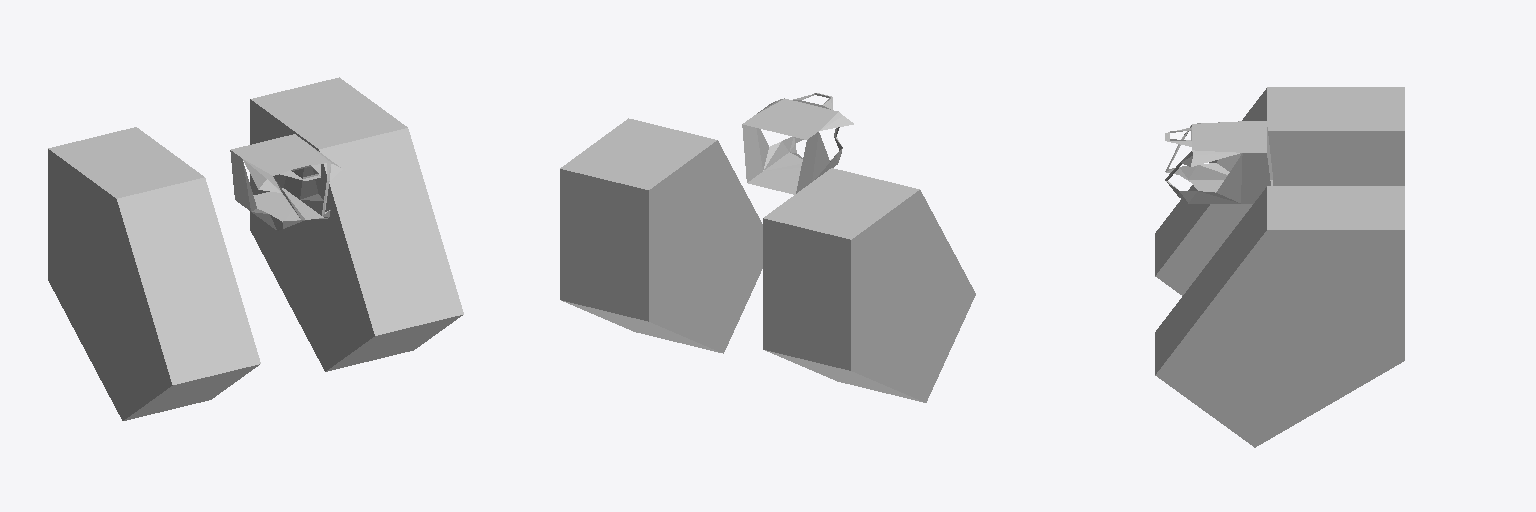
File: maddog_head.obj
The picture shows the model from 3 angles: view 1: azimuth 30°, elevation 25°; view 2: azimuth 150°, elevation 25°; view 3: azimuth 270°, elevation 25°; orthographic projection.
Visible parts, largest first — view 1: 0000_default, main; view 2: 0000_default, main; view 3: 0000_default, main.
Part boxes in pixels (left/top/right/bottom): 0000_default: left=48, top=77, right=463, bottom=420; main: left=230, top=134, right=342, bottom=230; 0000_default: left=560, top=118, right=975, bottom=402; main: left=742, top=93, right=853, bottom=194; 0000_default: left=1155, top=87, right=1404, bottom=447; main: left=1165, top=121, right=1272, bottom=203.
Bounding box in the file's own units: 5018 × 3972 × 3719.